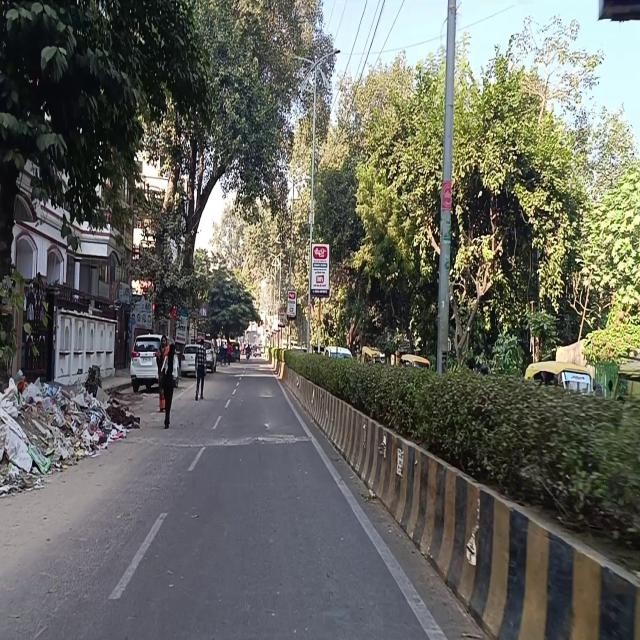Garbage: (1, 381, 117, 479)
